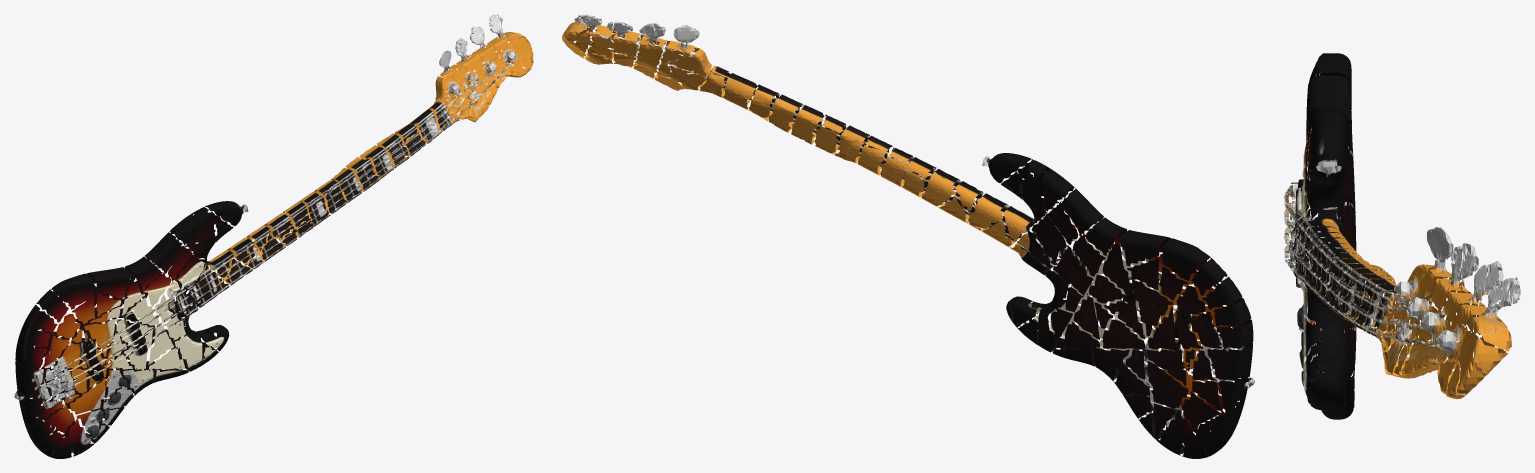
Rendered from bass_v221.glb.
The picture shows the model from 3 angles, left to right: view 1: azimuth 30°, elevation 25°; view 2: azimuth 150°, elevation 25°; view 3: azimuth 270°, elevation 25°; orthographic projection. The views are drawn at different scales.
Visible parts, largest first — view 1: world; view 2: world; view 3: world.
Part boxes in pixels (x1,y1,x2,y2): world: (14, 14, 533, 458); world: (562, 14, 1254, 458); world: (1283, 53, 1520, 419).
Bounding box in the file's own units: 1.9 × 0.9756 × 0.3545.
Materials: 1 (1 with a texture image).
